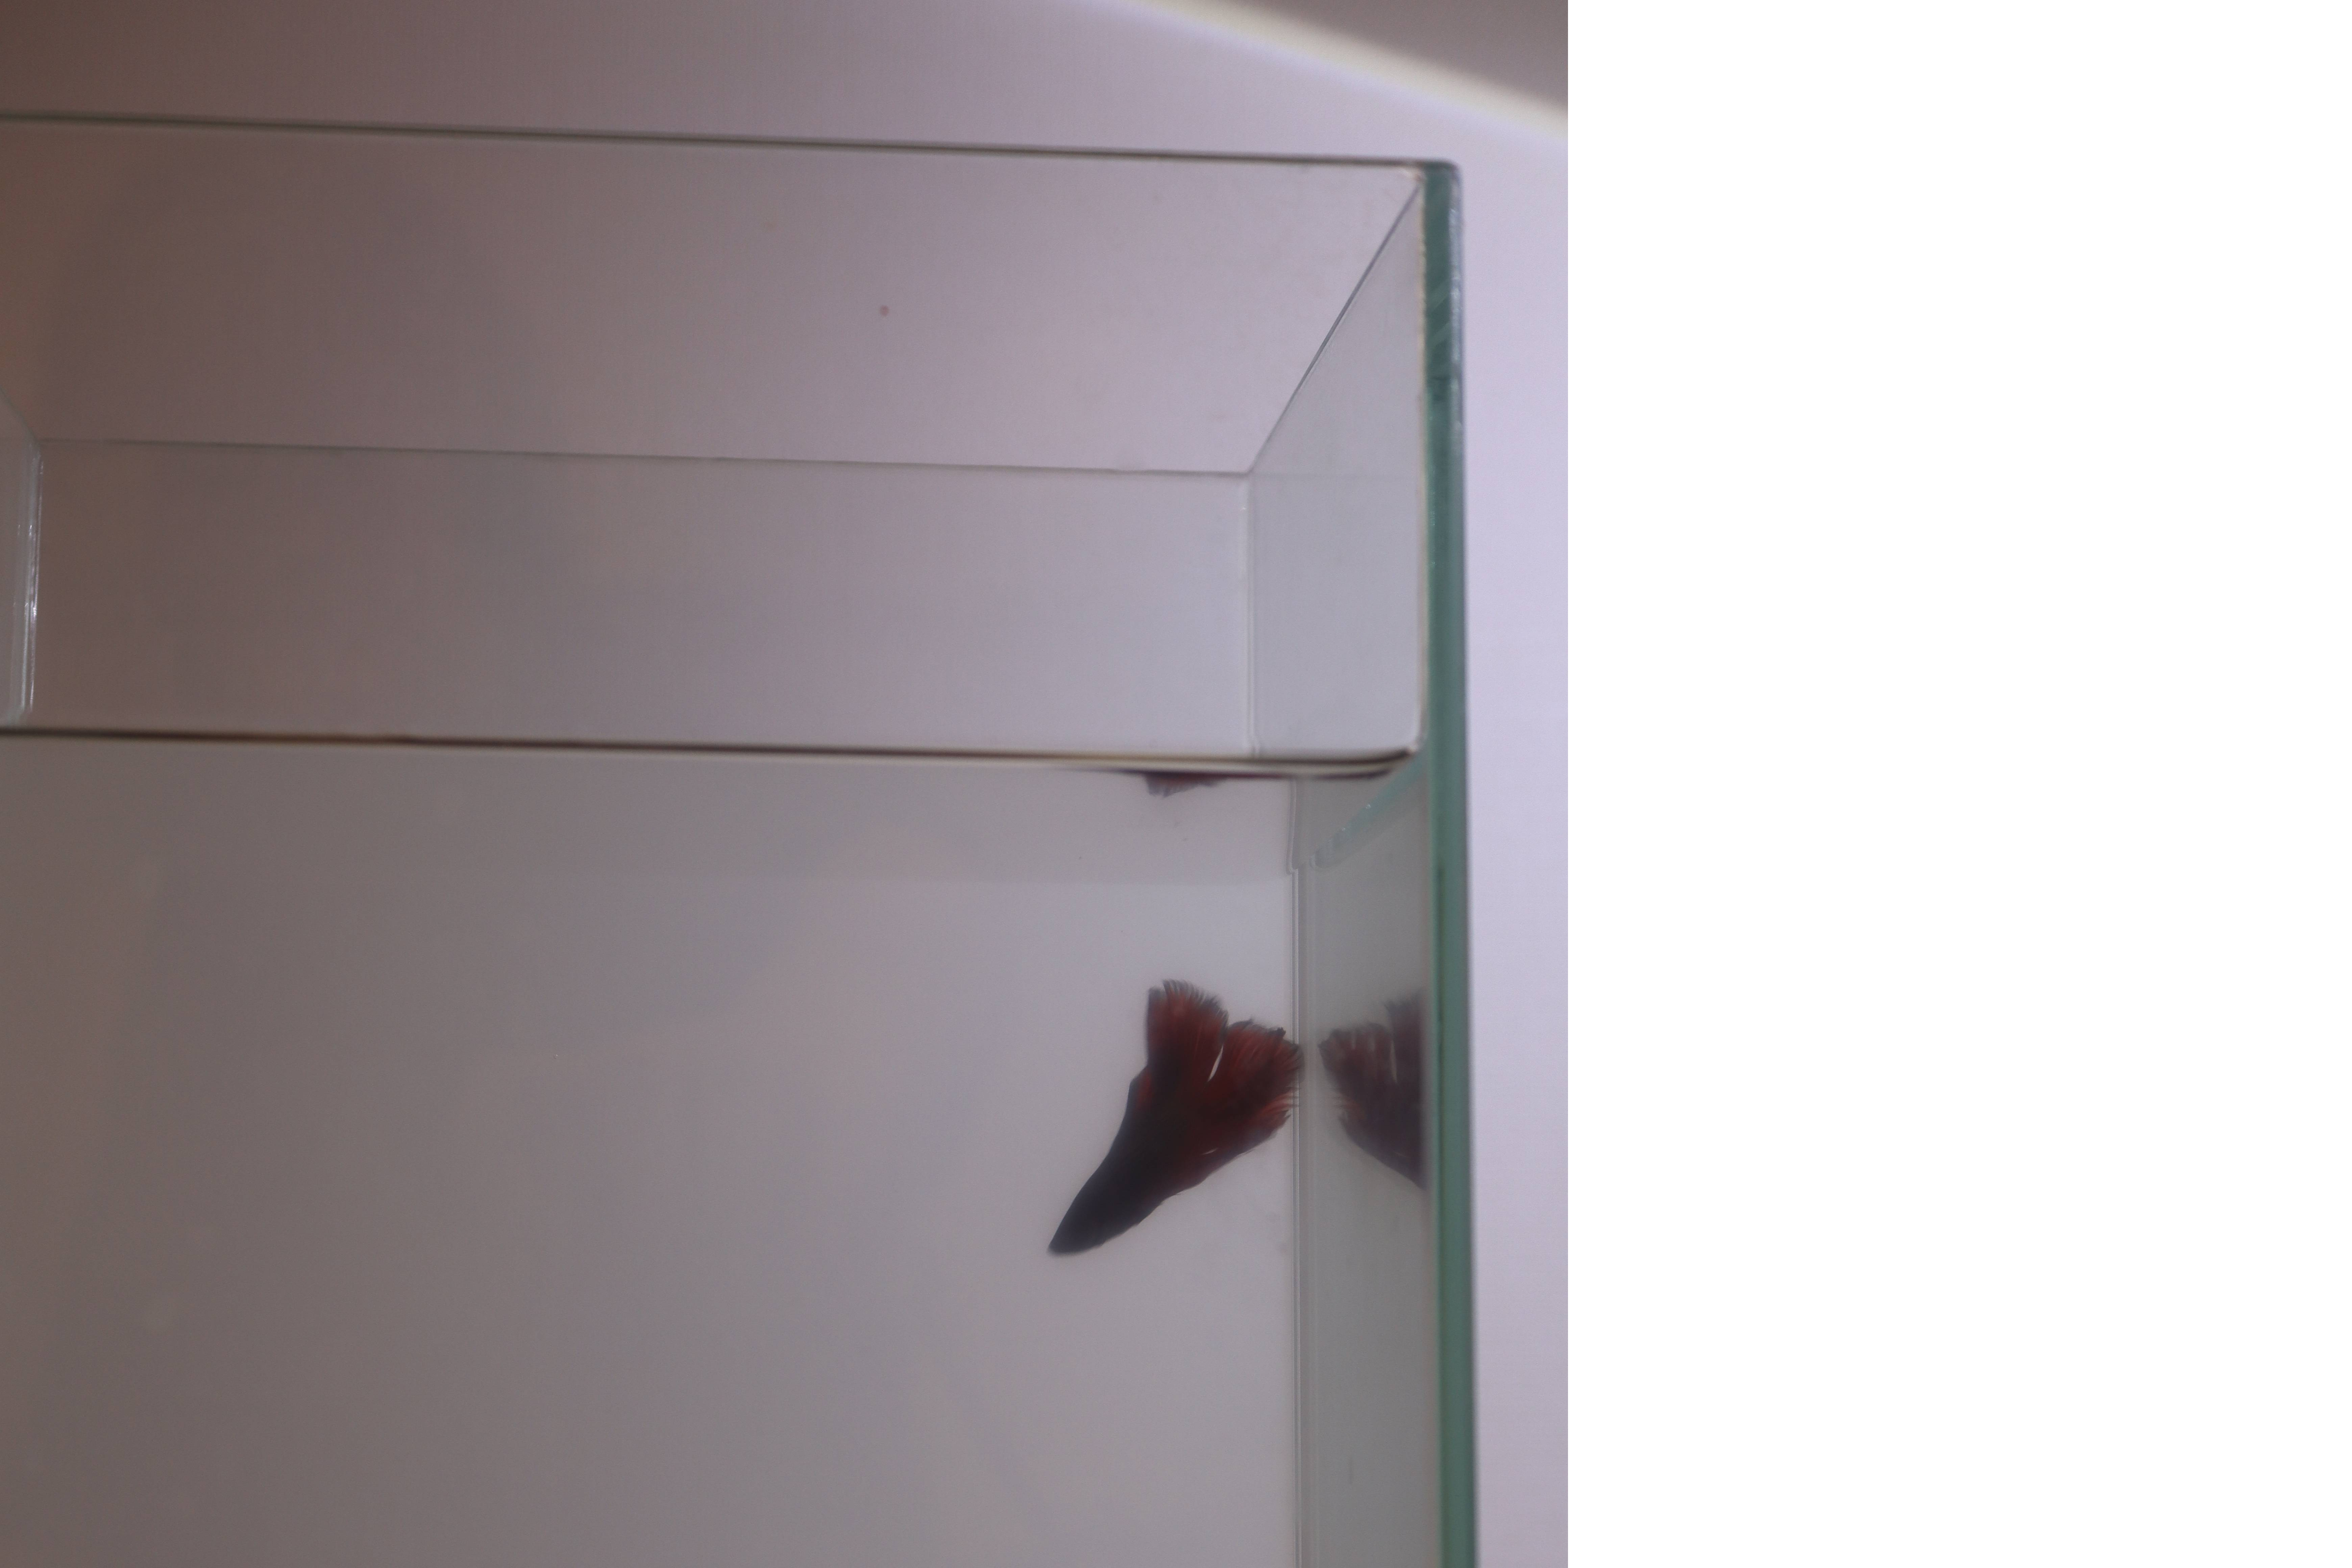fish: (1031, 978, 1311, 1263)
